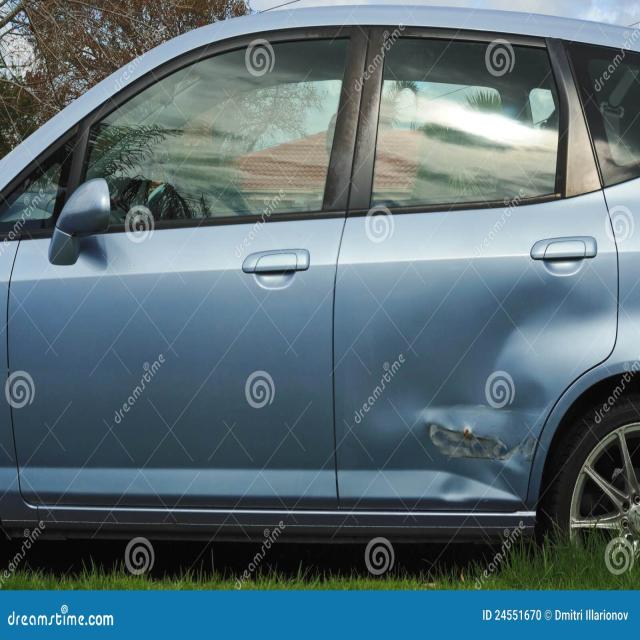dent: (359, 263, 617, 514)
scratch: (424, 402, 554, 466)
